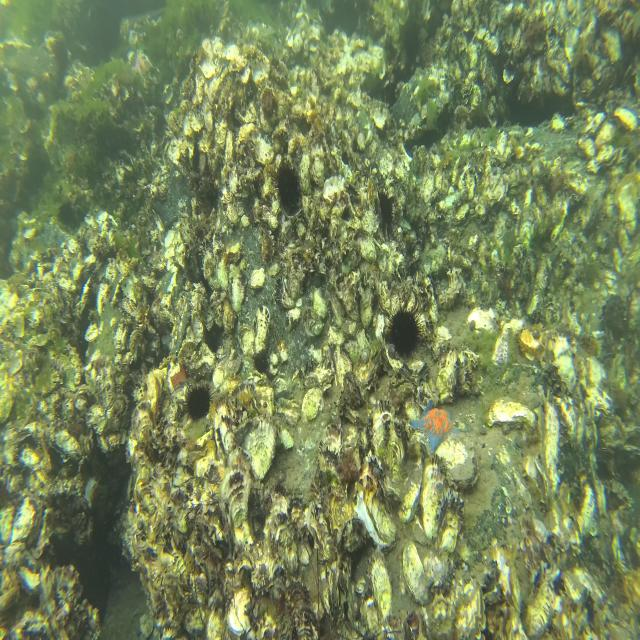echinus: (381, 294, 426, 365), (271, 155, 306, 219), (182, 377, 214, 424), (374, 180, 397, 242)
starfish: (408, 395, 461, 456), (414, 69, 436, 111)
